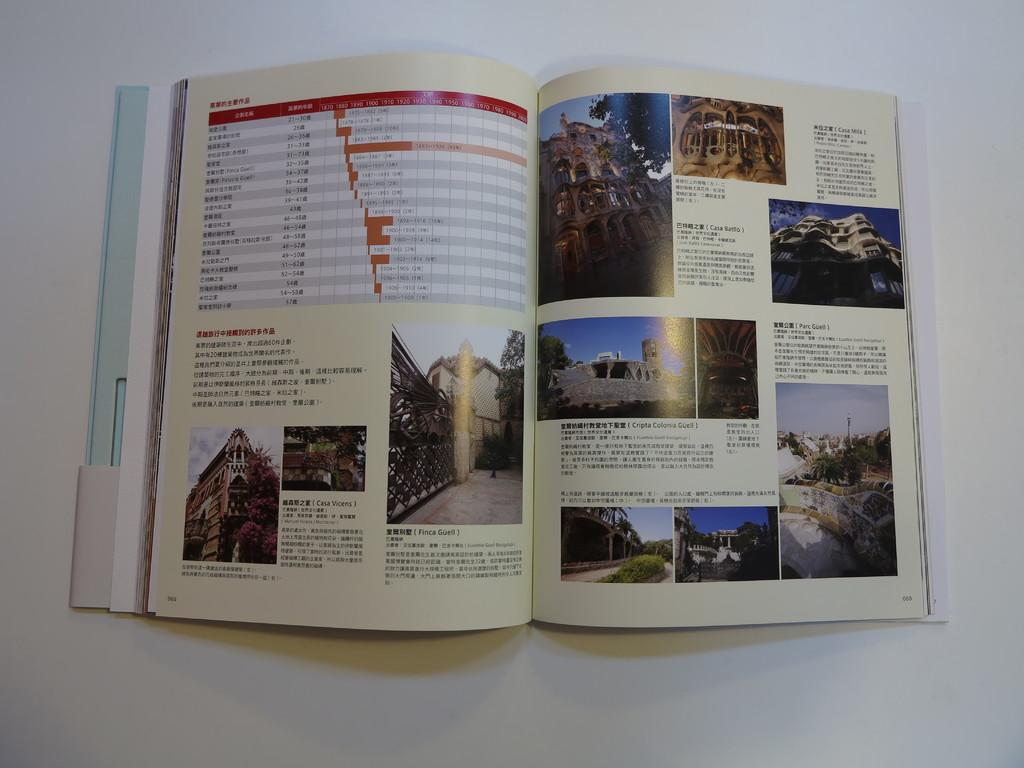book: (65, 50, 950, 632)
